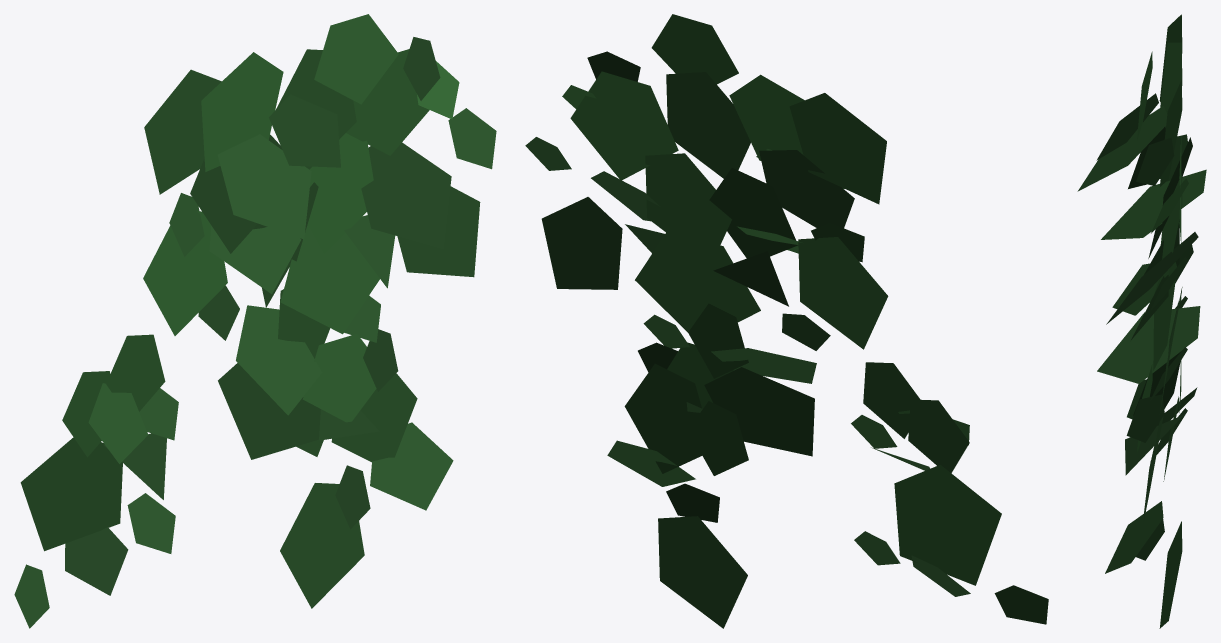
Rendered from Plants_Ivy02.fbx.
The picture shows the model from 3 angles, left to right: view 1: azimuth 30°, elevation 25°; view 2: azimuth 150°, elevation 25°; view 3: azimuth 270°, elevation 25°; orthographic projection. The views are drawn at different scales.
Parts seen in each view (by area): view 1: Plant_Ivy02; view 2: Plant_Ivy02; view 3: Plant_Ivy02.
Part boxes in pixels (box(x1,y1,x2,y2)): Plant_Ivy02: box(14, 14, 496, 628); Plant_Ivy02: box(525, 14, 1048, 628); Plant_Ivy02: box(1077, 14, 1206, 628).
Bounding box in the file's own units: 2.86 × 3.22 × 0.6423.
